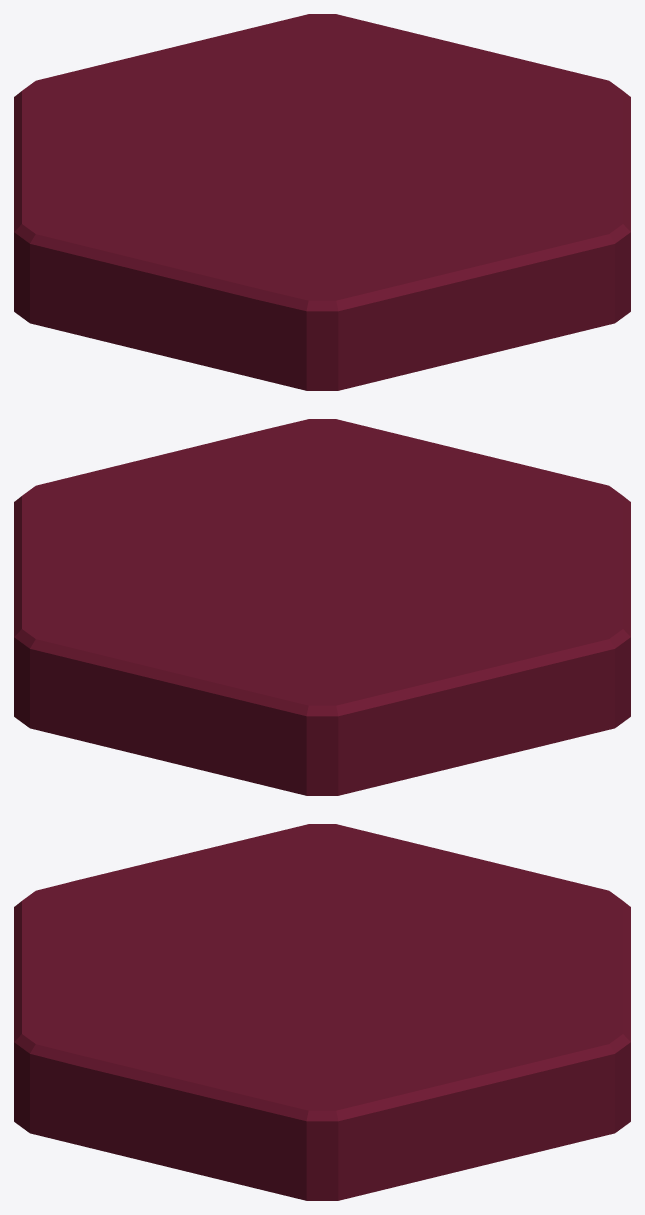
File: Floor_Without_Trap.fbx
3 views of the same model, one above another, from view 1: azimuth 30°, elevation 25°; view 2: azimuth 150°, elevation 25°; view 3: azimuth 270°, elevation 25° (orthographic).
Visible parts, largest first — view 1: Floor1; view 2: Floor1; view 3: Floor1.
Part boxes in pixels (left/top/right/bottom): Floor1: left=14, top=14, right=630, bottom=390; Floor1: left=14, top=419, right=630, bottom=795; Floor1: left=14, top=824, right=630, bottom=1200.
Size of the model in its own units: 543 by 75 by 483.
